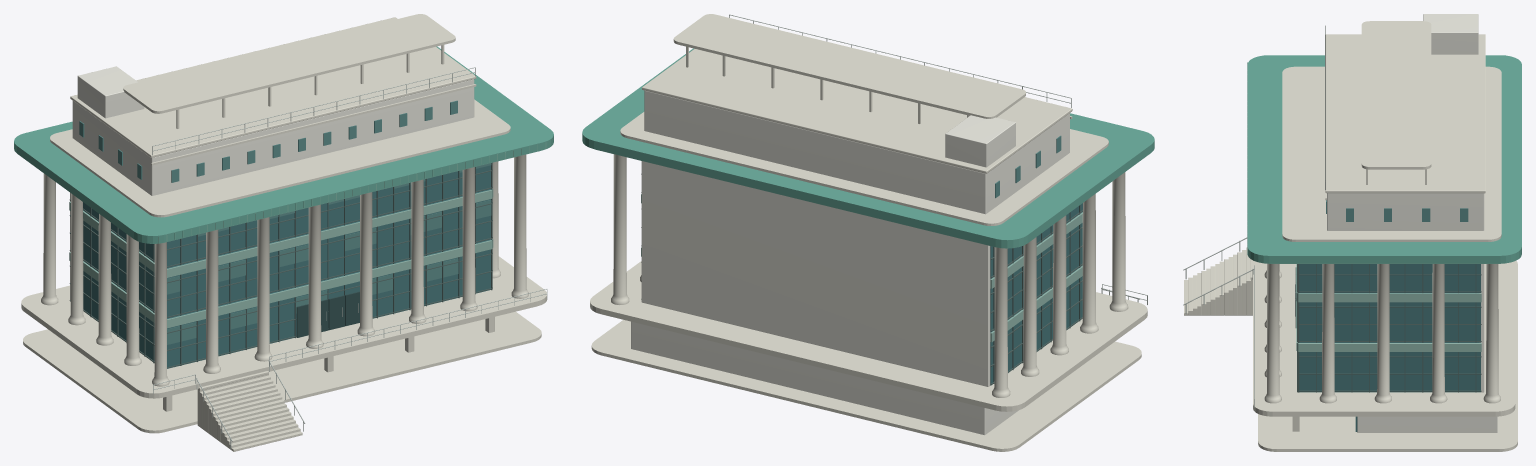
File: landmark.glb
The picture shows the model from 3 angles, left to right: view 1: azimuth 30°, elevation 25°; view 2: azimuth 150°, elevation 25°; view 3: azimuth 270°, elevation 25°; orthographic projection. The views are drawn at different scales.
Visible parts, largest first — view 1: Green wrapping canopy, Upper roof terrace slab, Lower foundation footprint, Raised portico terrace slab, Set-back white upper block, Long narrow rooftop shelter, Upper terrace floor, Front recessed glass level 1, Front recessed glass level 0, Front recessed glass level 2, Front jade floor band.001, Front jade floor band (+18 smaller); view 2: Rear wall - provisional simple geometry, Upper roof terrace slab, Set-back white upper block, Green wrapping canopy, Raised portico terrace slab, Long narrow rooftop shelter, Lower foundation footprint, Lower rear service volume, Upper terrace floor, Upper service tower - approximate, Side recessed glass level 1, Outer stone column 12 (+9 smaller); view 3: Green wrapping canopy, Upper roof terrace slab, Upper terrace floor, Raised portico terrace slab, Long narrow rooftop shelter, Lower foundation footprint, Side recessed glass level 0.001, Side recessed glass level 1.001, Set-back white upper block, Side recessed glass level 2.001, Lower rear service volume, Upper service tower - approximate (+8 smaller).
Part boxes in pixels (x1,y1,x2,y2): Green wrapping canopy: (14, 46, 553, 243); Upper roof terrace slab: (70, 17, 476, 157); Lower foundation footprint: (23, 311, 541, 433); Raised portico terrace slab: (21, 256, 547, 398); Set-back white upper block: (72, 79, 474, 195); Long narrow rooftop shelter: (123, 14, 455, 113); Upper terrace floor: (50, 99, 510, 217); Front recessed glass level 1: (167, 189, 490, 318); Front recessed glass level 0: (167, 239, 490, 368); Front recessed glass level 2: (167, 165, 490, 267); Front jade floor band.001: (167, 190, 492, 277); Front jade floor band: (167, 240, 492, 328); Rear wall - provisional simple geometry: (641, 161, 990, 386); Upper roof terrace slab: (642, 49, 1072, 173); Set-back white upper block: (644, 90, 1069, 214); Green wrapping canopy: (582, 48, 1154, 248); Raised portico terrace slab: (590, 261, 1147, 411); Long narrow rooftop shelter: (673, 14, 1025, 118); Lower foundation footprint: (591, 320, 1141, 451); Lower rear service volume: (631, 321, 1018, 435); Upper terrace floor: (620, 112, 1108, 225); Upper service tower - approximate: (945, 115, 1015, 167); Side recessed glass level 1: (990, 212, 1082, 332); Outer stone column 12: (992, 247, 1010, 397); Green wrapping canopy: (1247, 55, 1521, 263); Upper roof terrace slab: (1325, 34, 1485, 193); Upper terrace floor: (1282, 66, 1501, 241); Raised portico terrace slab: (1253, 260, 1515, 416); Long narrow rooftop shelter: (1361, 21, 1431, 169); Lower foundation footprint: (1258, 261, 1517, 451); Side recessed glass level 0.001: (1299, 342, 1480, 392); Side recessed glass level 1.001: (1299, 293, 1480, 342); Set-back white upper block: (1327, 193, 1484, 230); Side recessed glass level 2.001: (1299, 264, 1480, 292); Lower rear service volume: (1357, 416, 1497, 432); Upper service tower - approximate: (1423, 14, 1478, 54).
Bounding box in the file's own units: 36.2 × 22.45 × 25.82.
